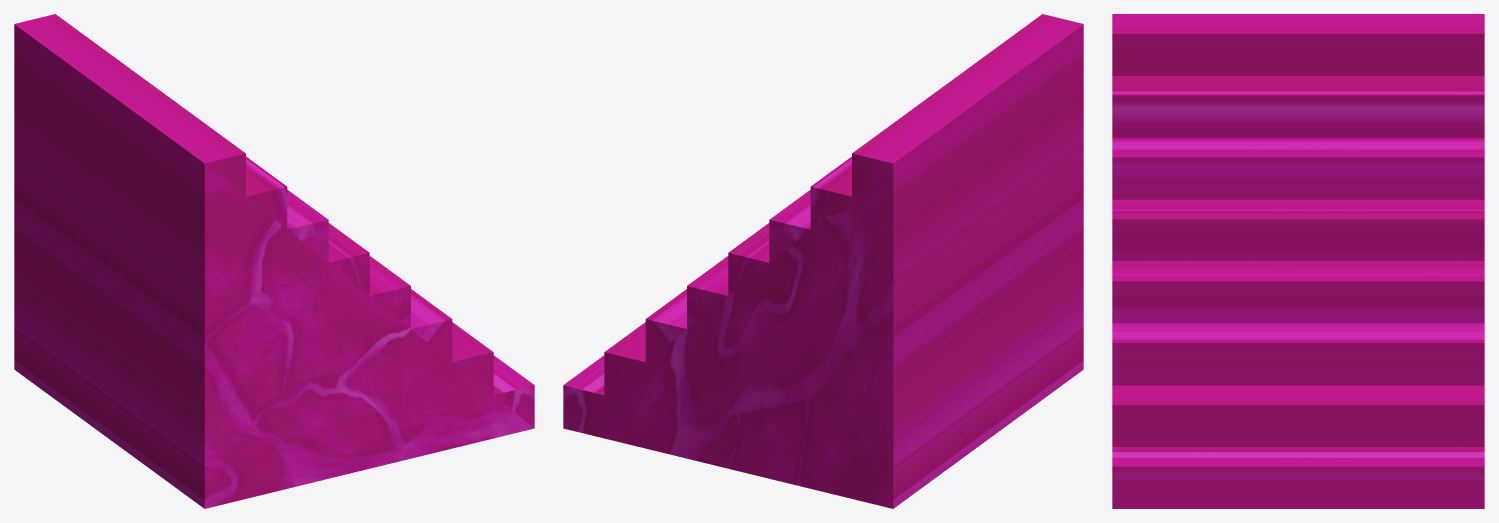
File: EspacioPornoEscaleraExteriorNI.gltf
The picture shows the model from 3 angles, left to right: view 1: azimuth 30°, elevation 25°; view 2: azimuth 150°, elevation 25°; view 3: azimuth 270°, elevation 25°; orthographic projection. The views are drawn at different scales.
Parts seen in each view (by area): view 1: Escalera; view 2: Escalera; view 3: Escalera.
Boxes of the visible parts, left/top/right/bottom form: Escalera: left=14, top=14, right=534, bottom=508; Escalera: left=563, top=14, right=1083, bottom=508; Escalera: left=1112, top=14, right=1484, bottom=508.
Bounding box in the file's own units: 2 × 2 × 2.
Materials: 1 (1 with a texture image).
